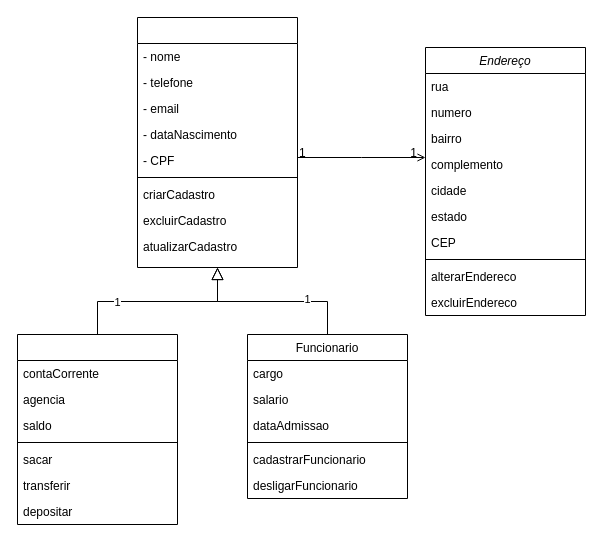
Image size: 603x545. Some labels were removed from this diagram. The shapes that lost their labels are listed below. From the top down, each one's box as (x1, y1, x2, y2) in pixels, then its label:
(136, 16, 298, 268): Pessoa
(16, 334, 178, 524): Cliente
